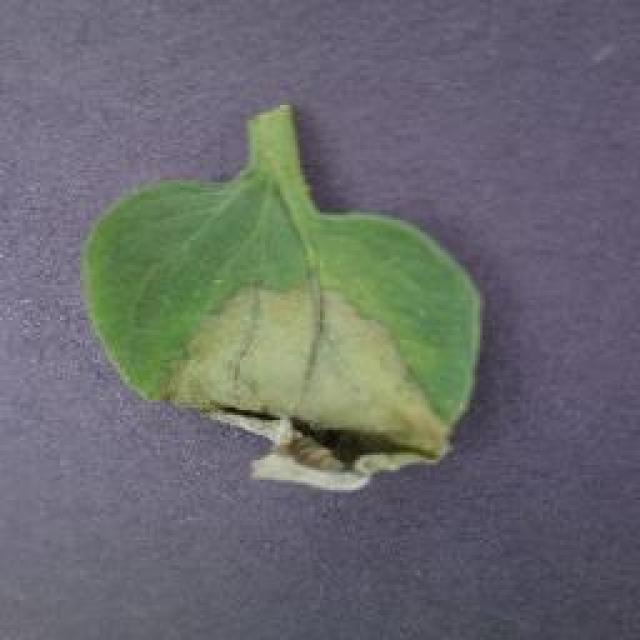Tomato Late Blight: (153, 240, 497, 545)
